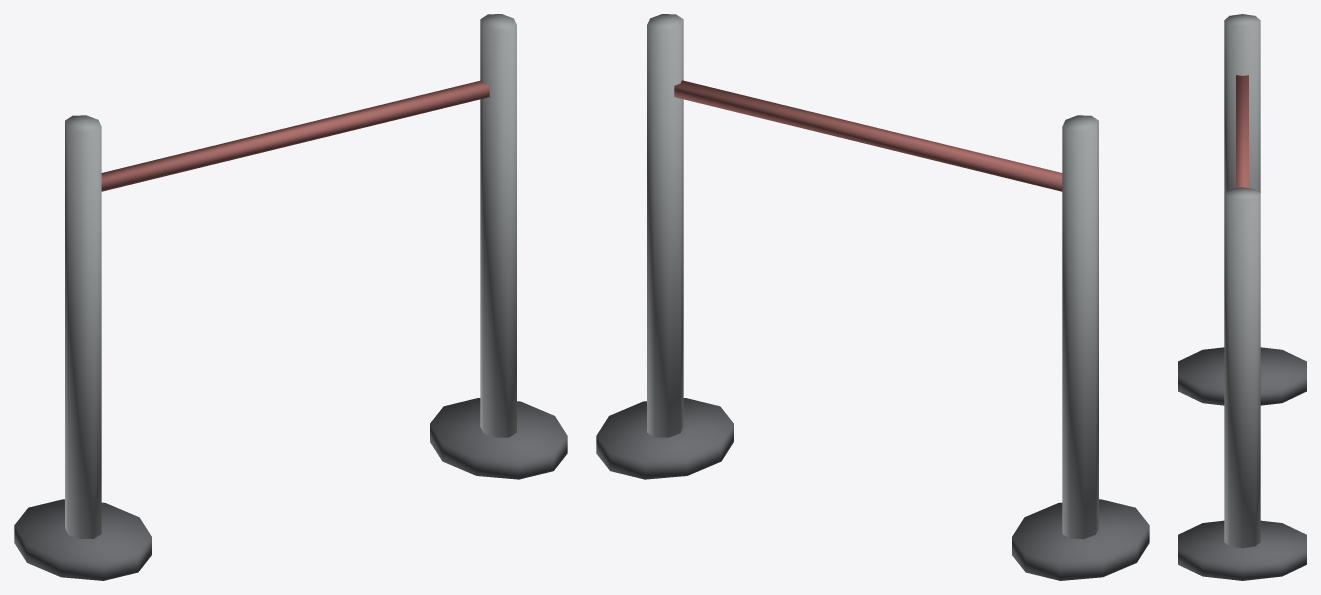
Rendered from museum_rope_barrier__deep.glb.
3 views of the same model, side by side, from view 1: azimuth 30°, elevation 25°; view 2: azimuth 150°, elevation 25°; view 3: azimuth 270°, elevation 25° (orthographic). The views are drawn at different scales.
Parts seen in each view (by area): view 1: world; view 2: world; view 3: world.
Part boxes in pixels (x1,y1,x2,y2): world: (14,14,567,580); world: (596,14,1149,580); world: (1178,14,1306,580).
Bounding box in the file's own units: 1.22 × 0.94 × 0.3017.
